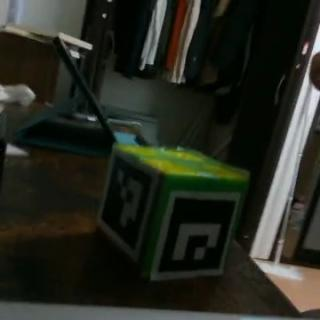armor: (151, 190, 239, 282), (96, 145, 162, 262)
robot: (97, 142, 249, 284)
